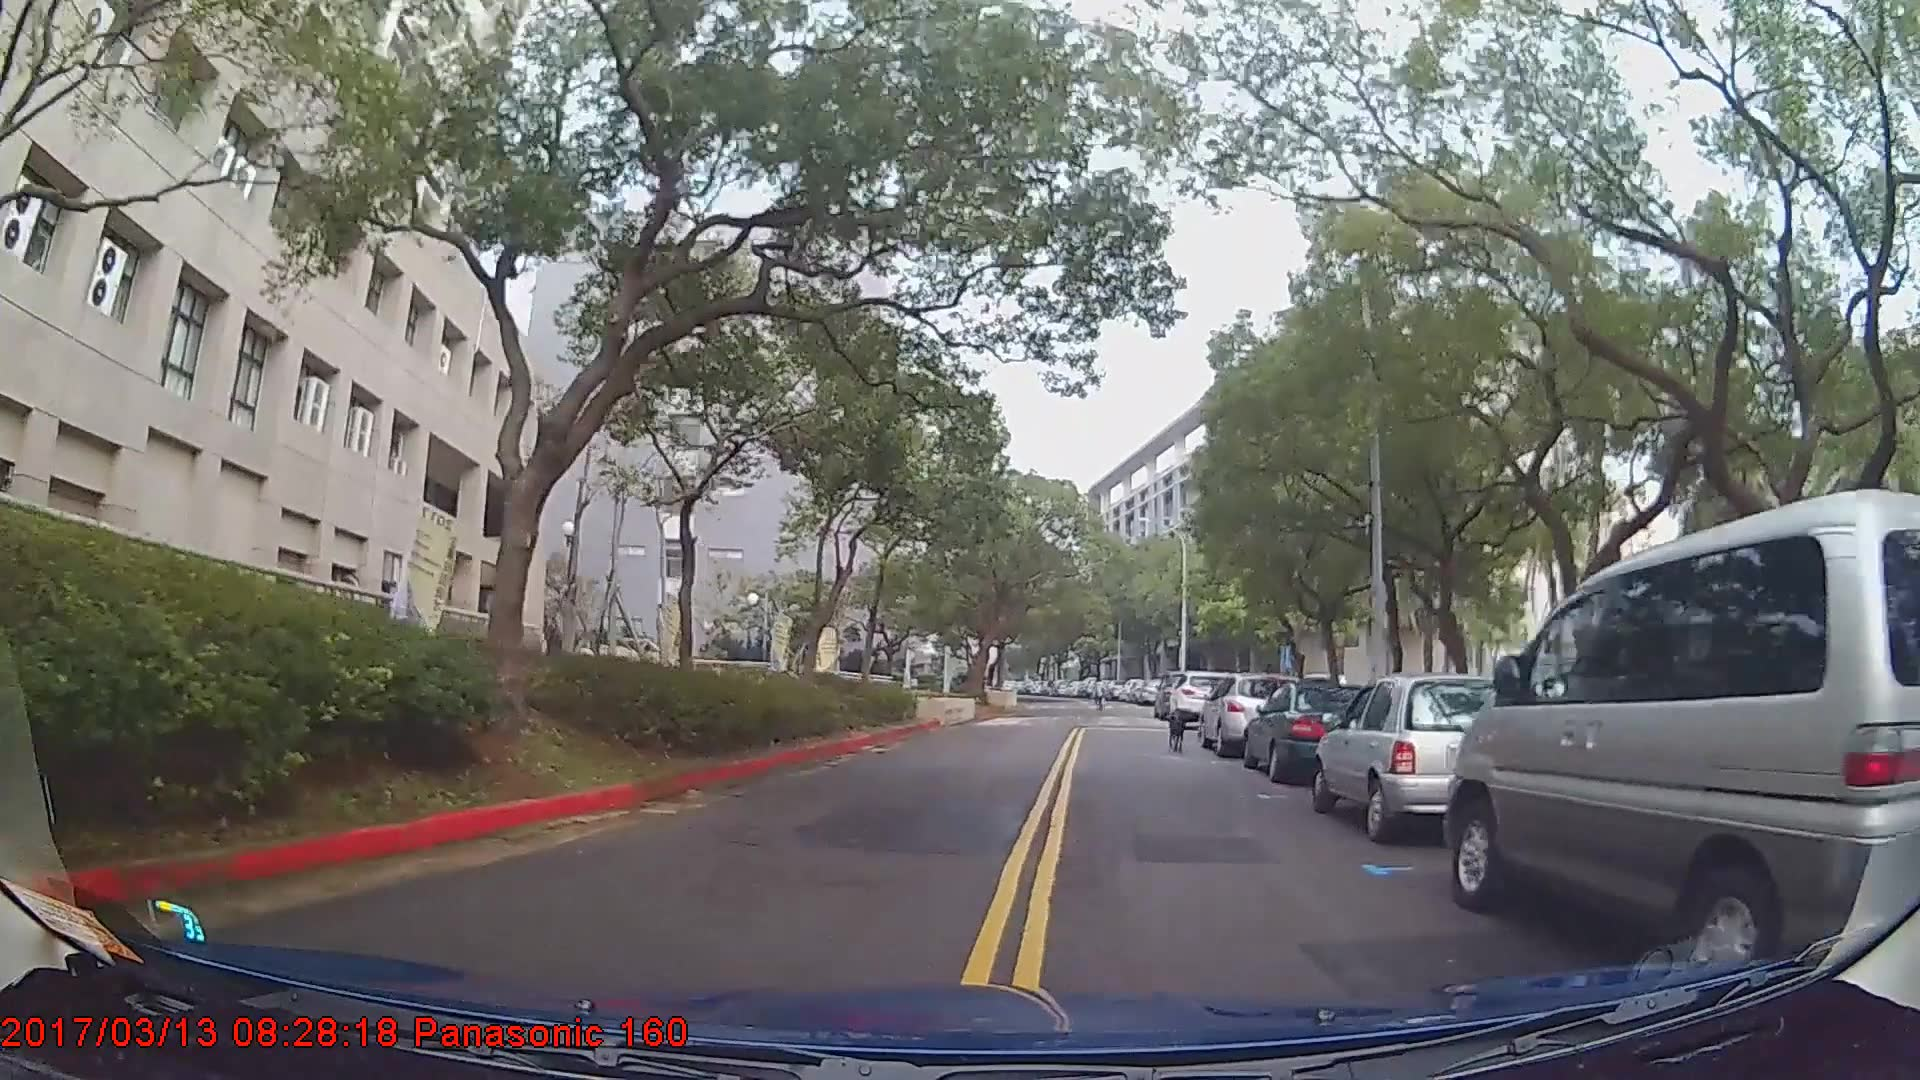vehicle: (1437, 480, 1920, 971), (1308, 671, 1532, 840), (1241, 680, 1387, 789), (1199, 673, 1296, 756), (1168, 670, 1234, 727)
